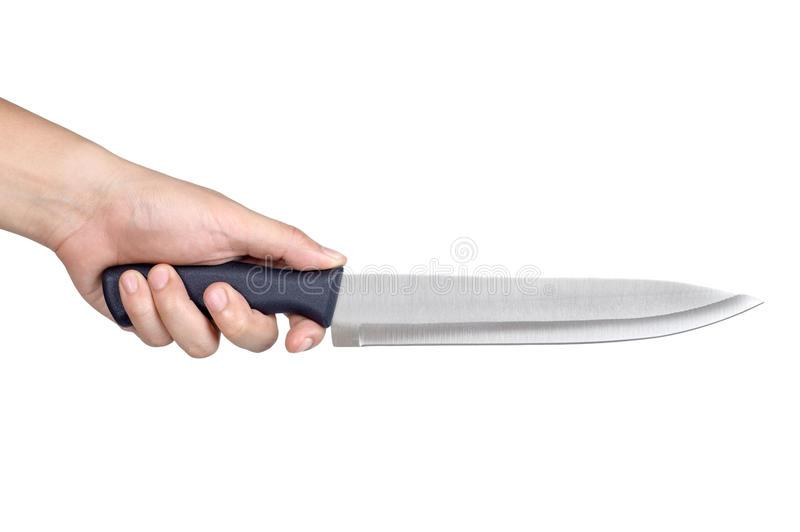weapon: (99, 261, 768, 351)
